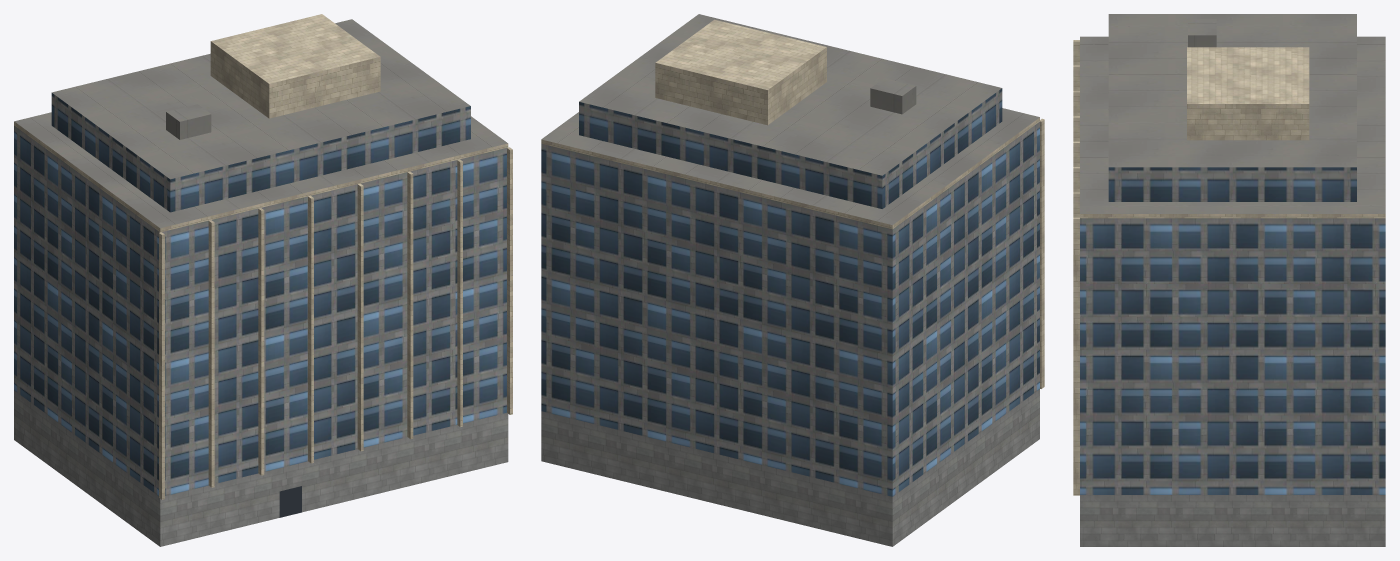
Rendered from dc_office_glass.glb.
3 views of the same model, side by side, from view 1: azimuth 30°, elevation 25°; view 2: azimuth 150°, elevation 25°; view 3: azimuth 270°, elevation 25° (orthographic). The views are drawn at different scales.
Visible parts, largest first — view 1: dc_office_glass; view 2: dc_office_glass; view 3: dc_office_glass.
Boxes of the visible parts, x1,y1,x2,y2 form: dc_office_glass: [14, 14, 512, 546]; dc_office_glass: [541, 14, 1044, 546]; dc_office_glass: [1073, 14, 1385, 546].
Bounding box in the file's own units: 44.35 × 46.7 × 32.7.
Materials: 5 (5 with a texture image).
